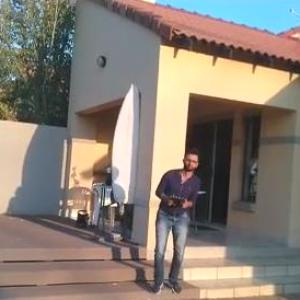follow: (147, 143, 199, 299)
